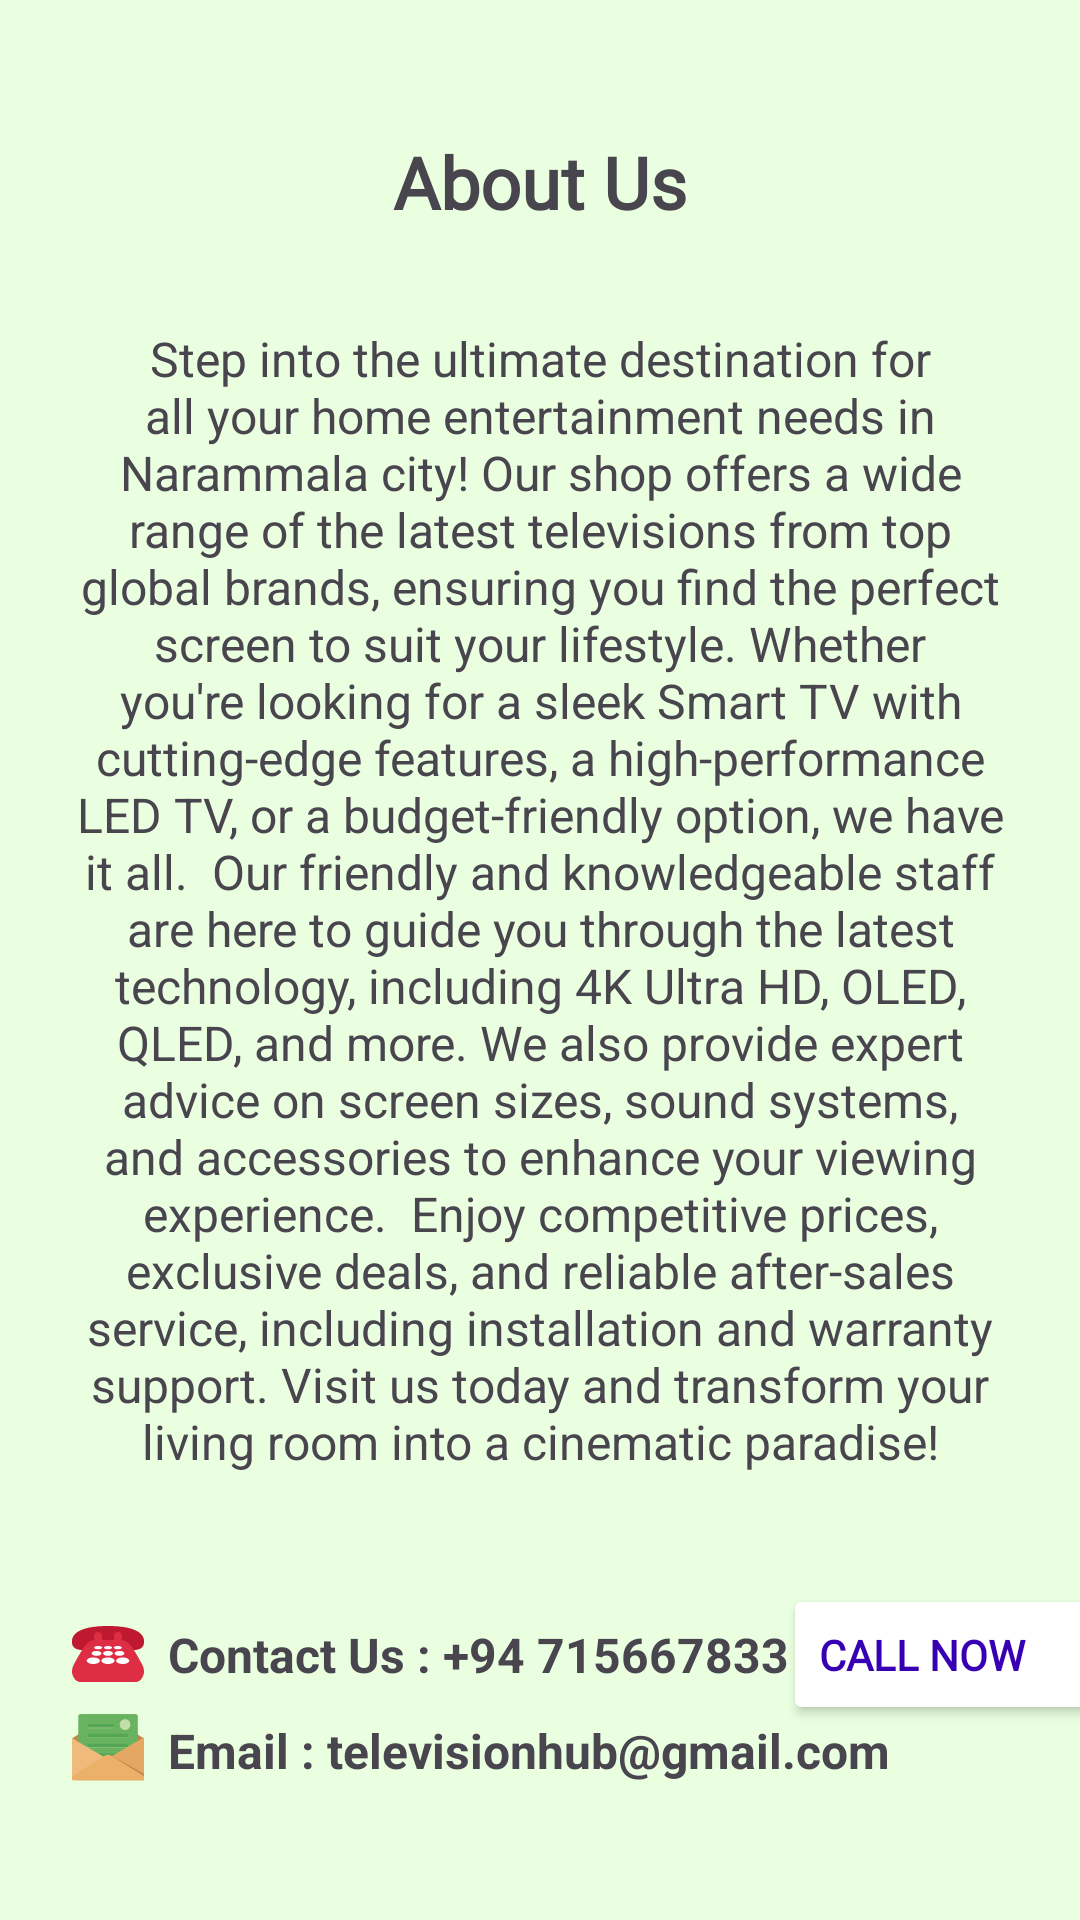

Screen size 1080px×1920px. Icon name, then its center in pixels as (x=x, y=y):
telephone: (x=108, y=1654)
